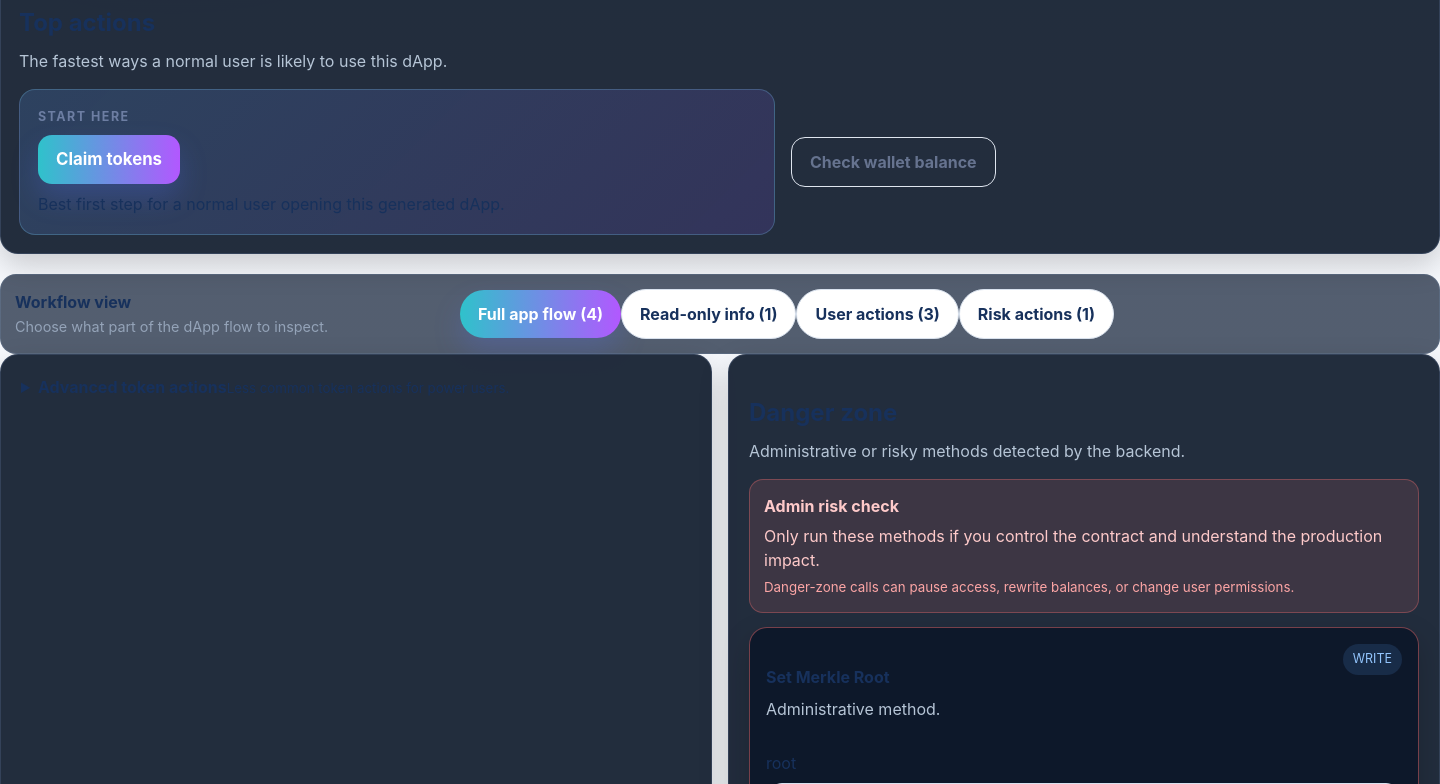
Test: PreviewPage › keeps ERC20 advanced token actions collapsed until the user opens them
This screenshot has width=1440, height=784.
(page scrolled)
expect the button "transfer from" is not shown: met
Click the text "Advanced token actions" at [132, 387], box [38, 377, 227, 397]
(page scrolled)
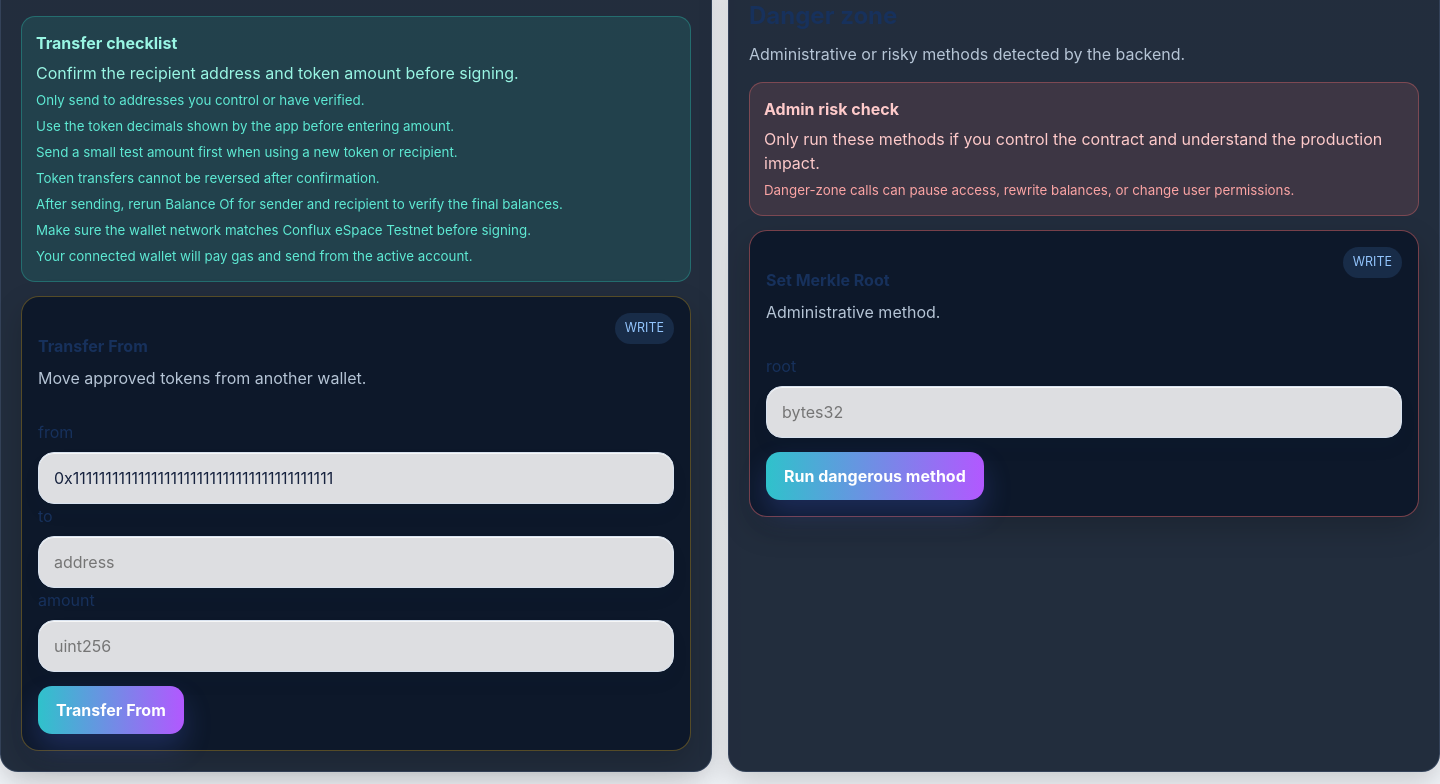
expect the button "Transfer From" is shown: met, box [38, 686, 184, 734]
